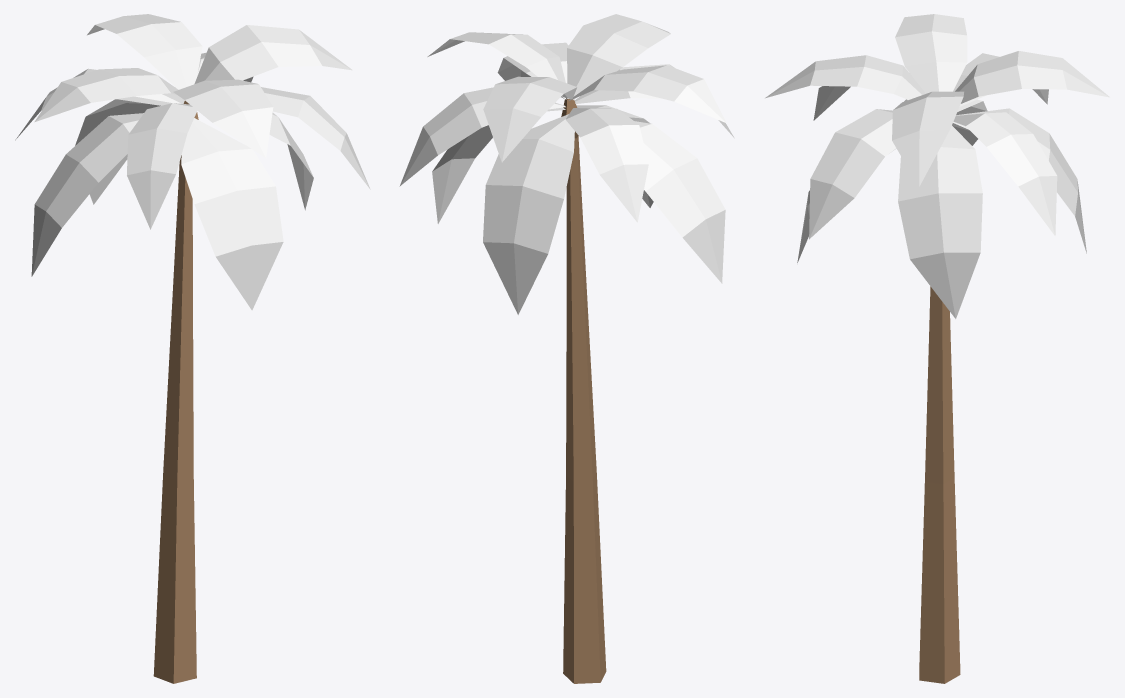
The model's file is Palm_Tree_OneSided_l_Snow_01_LOD.fbx.
3 renders of one model, left to right at view 1: azimuth 30°, elevation 25°; view 2: azimuth 150°, elevation 25°; view 3: azimuth 270°, elevation 25°, orthographic.
Visible parts, largest first — view 1: Palm_Tree_OneSided_l_Snow_01_LOD0; view 2: Palm_Tree_OneSided_l_Snow_01_LOD0; view 3: Palm_Tree_OneSided_l_Snow_01_LOD0.
Part boxes in pixels (x1,y1,x2,y2): Palm_Tree_OneSided_l_Snow_01_LOD0: (15, 14, 370, 683); Palm_Tree_OneSided_l_Snow_01_LOD0: (399, 14, 734, 683); Palm_Tree_OneSided_l_Snow_01_LOD0: (765, 14, 1109, 683).
Size of what is drawn, in the model's own units: 430 by 823 by 417.
